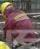boots: (0, 0, 2, 1)
hard-hat: (0, 2, 13, 15)
ppe-suit: (0, 0, 1, 2)
vest: (3, 7, 34, 35)
